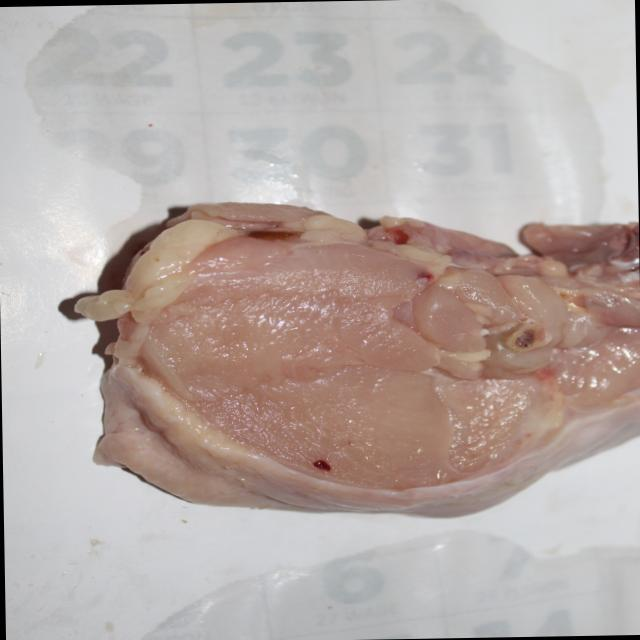chicken: (89, 195, 640, 519)
